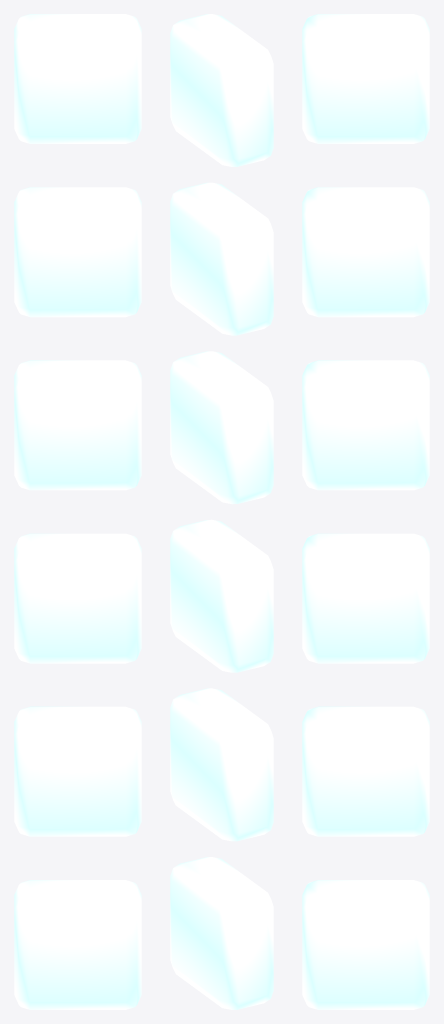
The model's file is MM_Capsule__Cyan.fbx.
3 renders of one model, left to right at view 1: azimuth 90°, elevation 25°; view 2: azimuth 210°, elevation 25°; view 3: azimuth 270°, elevation 25°, orthographic. The views are drawn at different scales.
Parts seen in each view (by area): view 1: MM_Capsule__Cyan; view 2: MM_Capsule__Cyan; view 3: MM_Capsule__Cyan.
Part boxes in pixels (x1,y1,x2,y2): MM_Capsule__Cyan: (14,14,141,1009); MM_Capsule__Cyan: (170,14,273,1009); MM_Capsule__Cyan: (302,14,429,1009).
Bounding box in the file's own units: 8 × 136 × 16.
